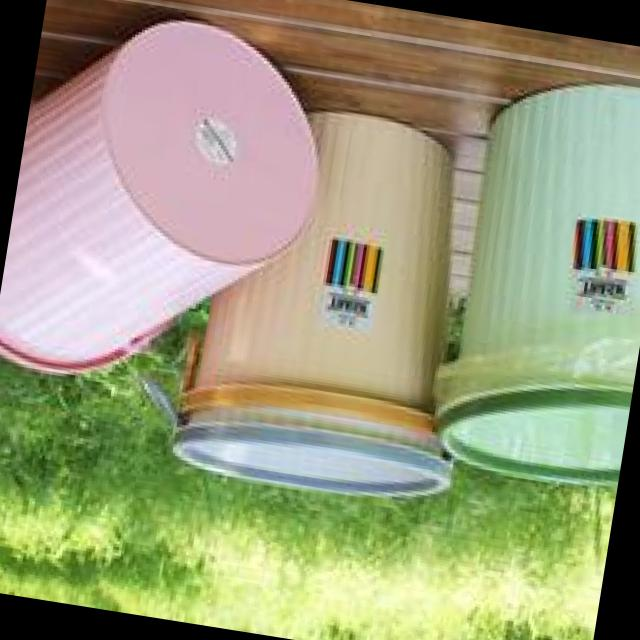dustbin: (154, 82, 518, 515), (0, 0, 339, 411), (419, 43, 640, 521)
